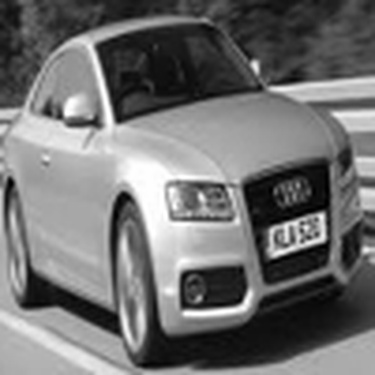car: (1, 1, 363, 362)
